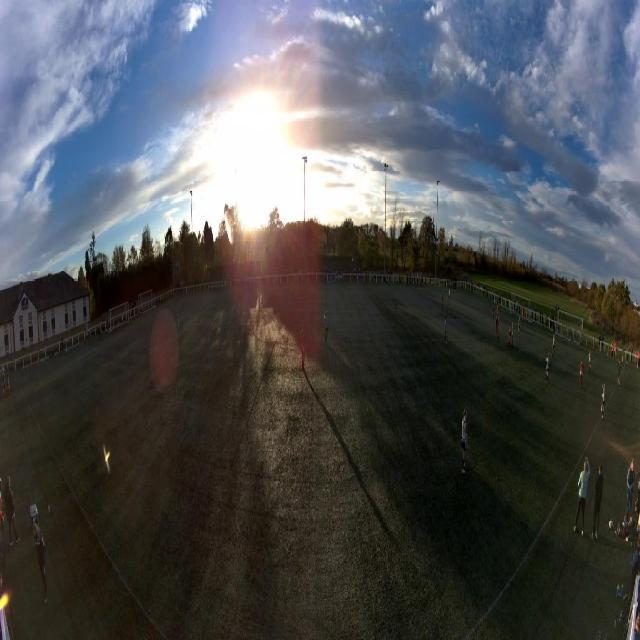player: (300, 332, 305, 371), (545, 353, 551, 384), (324, 309, 329, 345), (579, 360, 584, 388), (444, 315, 448, 344), (176, 313, 180, 338), (508, 325, 512, 347), (588, 351, 592, 373), (551, 336, 555, 358), (497, 316, 500, 342), (518, 317, 521, 337), (394, 290, 397, 309), (492, 304, 495, 323), (512, 322, 514, 347), (496, 304, 499, 319), (495, 315, 497, 337), (441, 295, 443, 314), (449, 288, 451, 305), (522, 307, 524, 323)
